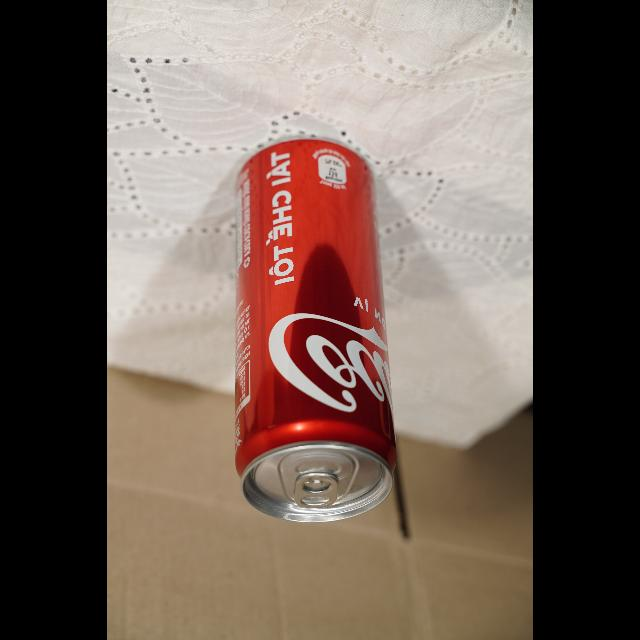coca_cola: (232, 137, 398, 523)
